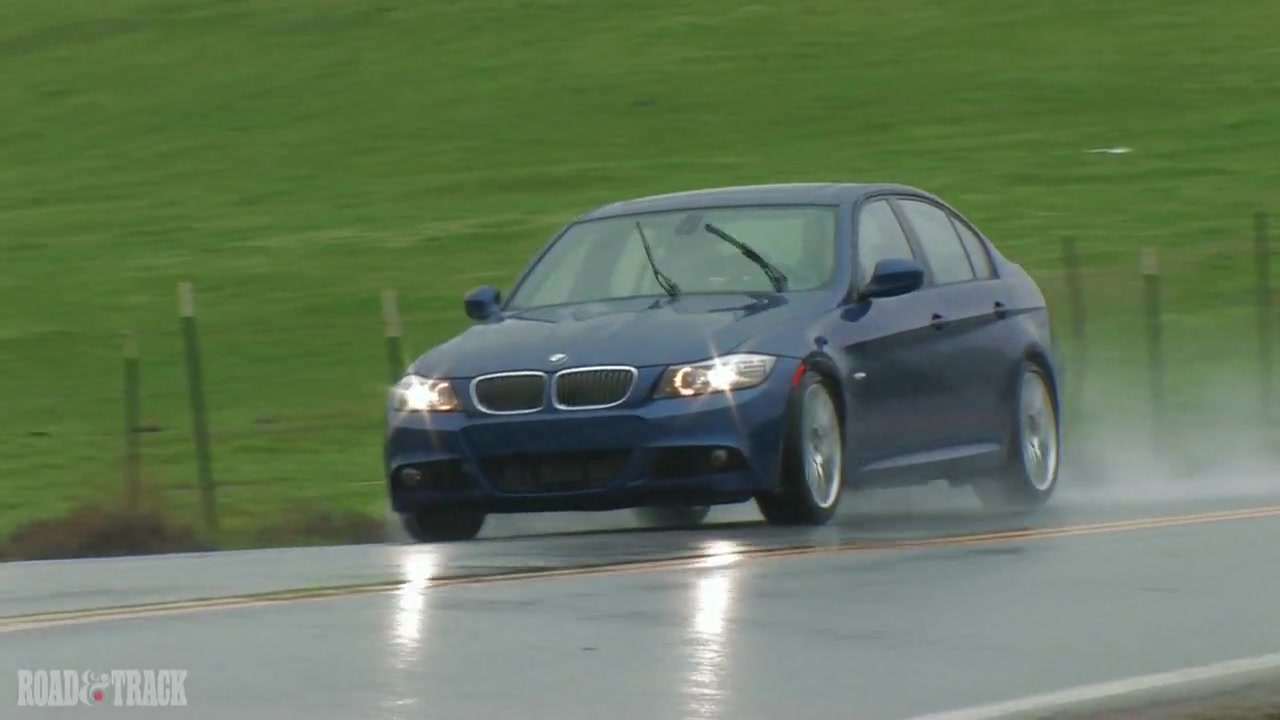car: (384, 182, 1088, 545)
